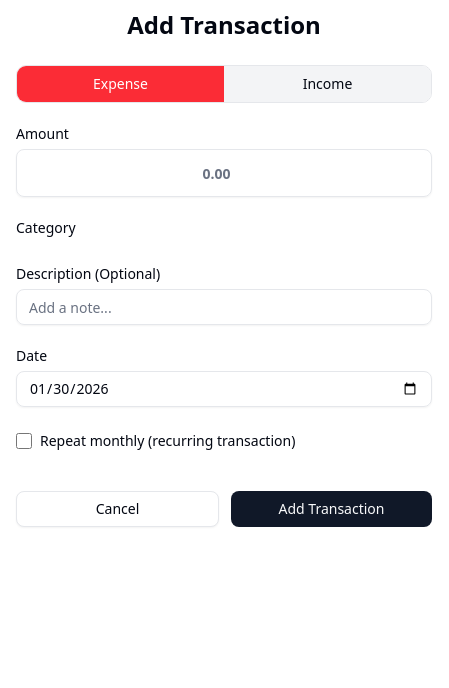
Test: Basic Integration Tests › Transaction Form Integration › should validate form fields
# Try to submit without filling required fields
Click the button "Add Transaction".
click(332, 509)  # box [231,491,432,527]
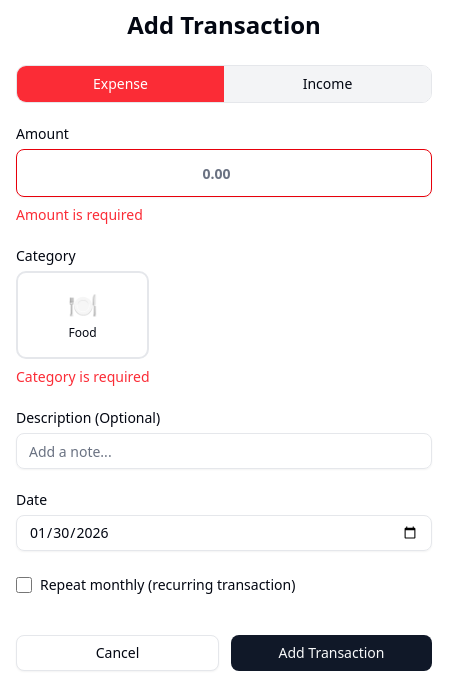
Expected: the text "Amount is required" is shown, [16,205,143,224]
Expected: the text "Category is required" is shown, [16,367,150,386]
